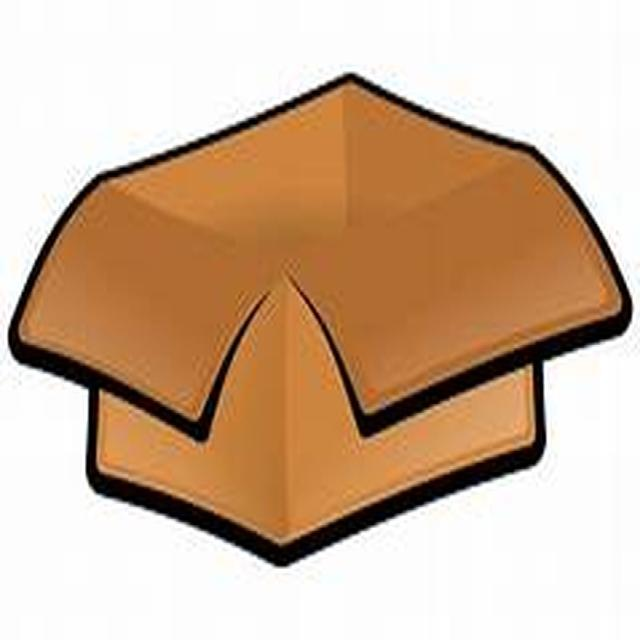box: (23, 28, 594, 562)
